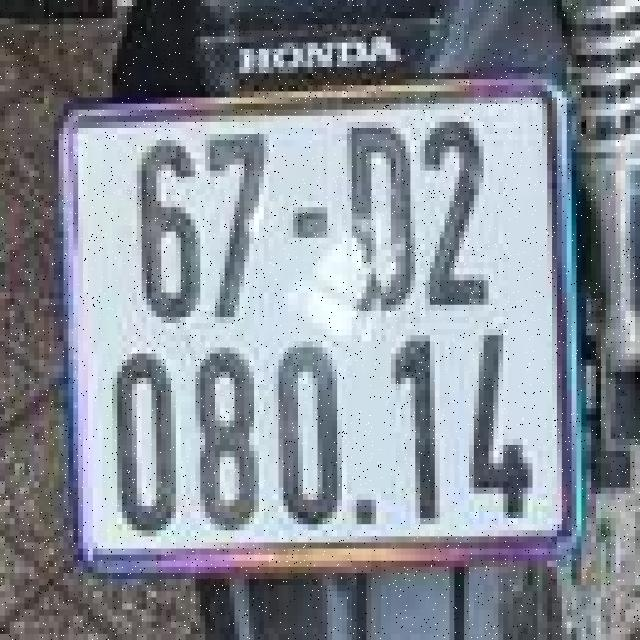0: (98, 329, 186, 543), (271, 326, 354, 540)
1: (381, 311, 454, 548)
2: (418, 107, 515, 314)
4: (457, 320, 559, 539)
6: (122, 134, 205, 329)
7: (195, 110, 278, 329)
8: (185, 332, 268, 540)
D: (337, 100, 415, 314)
